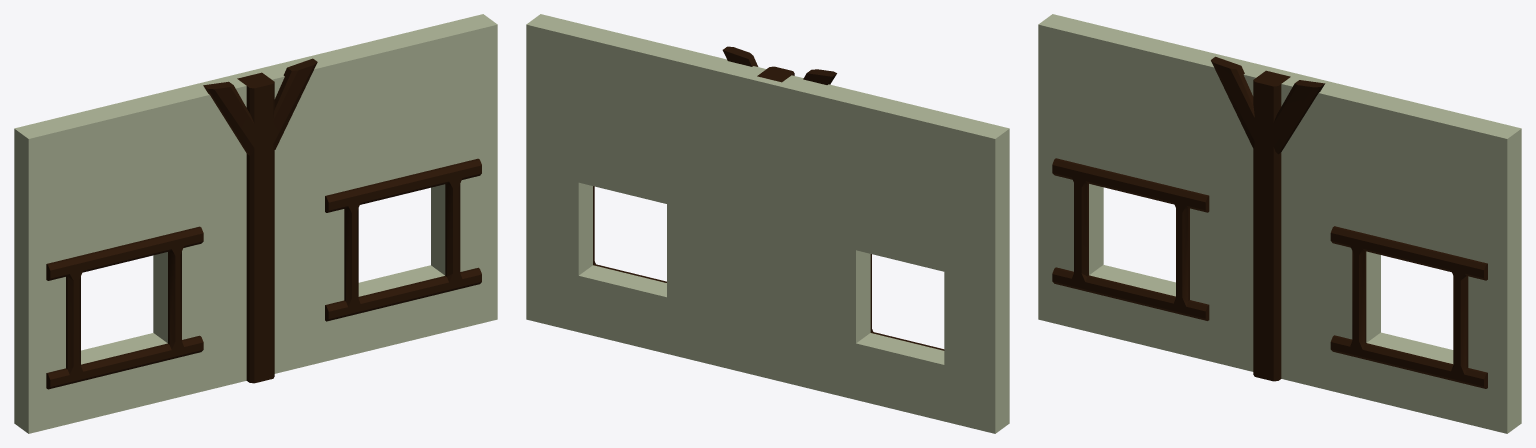
File: Wall_Long02_FBX 1.fbx
The picture shows the model from 3 angles, left to right: view 1: azimuth 30°, elevation 25°; view 2: azimuth 150°, elevation 25°; view 3: azimuth 330°, elevation 25°; orthographic projection.
Visible parts, largest first — view 1: Long wall double window015, Box243, Box245, Box244; view 2: Long wall double window015, Box245; view 3: Long wall double window015, Box243, Box245, Box244.
Part boxes in pixels (<box>): Long wall double window015: <box>14,14,497,433</box>; Box243: <box>237,72,274,383</box>; Box245: <box>272,58,317,149</box>; Box244: <box>203,81,255,155</box>; Long wall double window015: <box>526,14,1009,433</box>; Box245: <box>722,46,758,66</box>; Long wall double window015: <box>1038,14,1521,433</box>; Box243: <box>1253,70,1290,381</box>; Box245: <box>1272,80,1325,154</box>; Box244: <box>1211,56,1255,147</box>.
Bounding box in the file's own units: 749 × 465 × 53.48.
